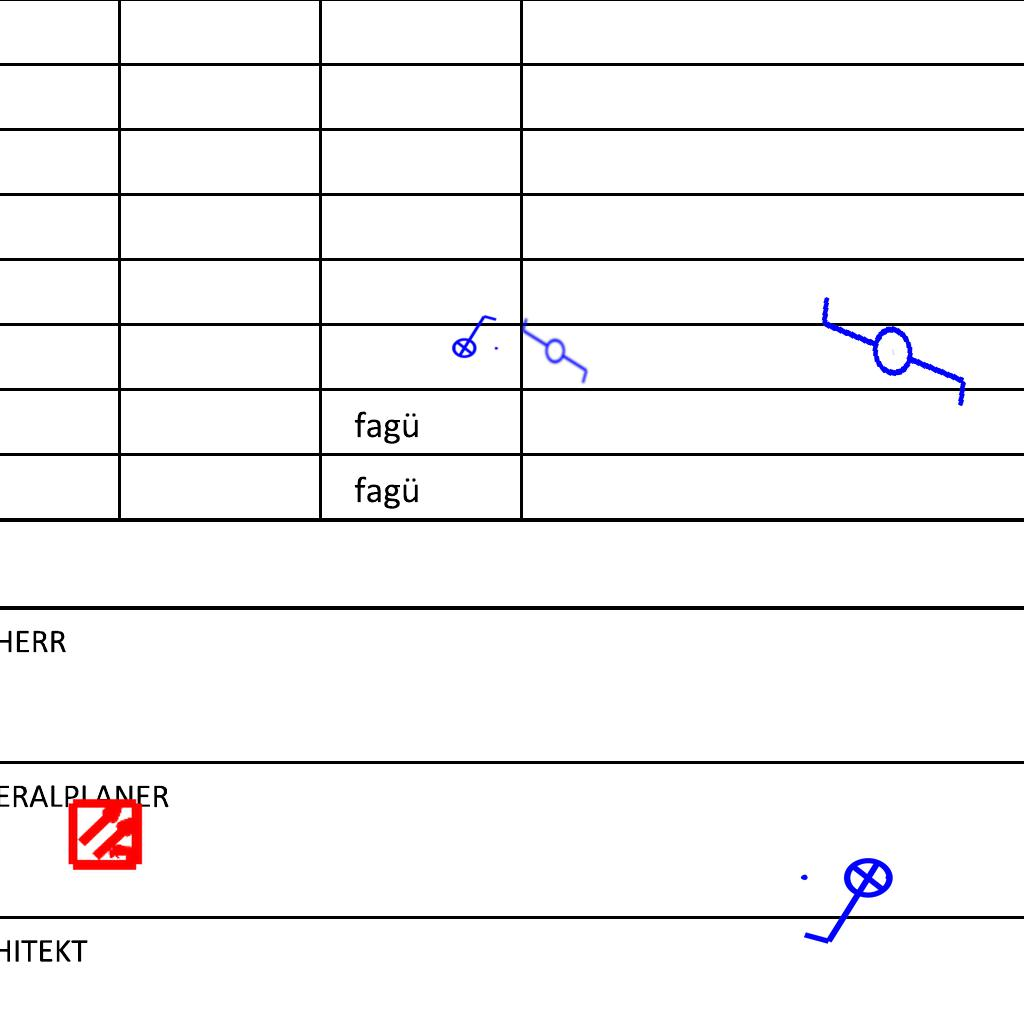Ausschalter_beleuchtet: (795, 856, 907, 952), (445, 311, 501, 359)
OT_Multisensormelder_(Kombination_RMO_WMD): (51, 778, 164, 891)
Wechselschalter: (808, 253, 979, 433), (518, 316, 590, 394)
